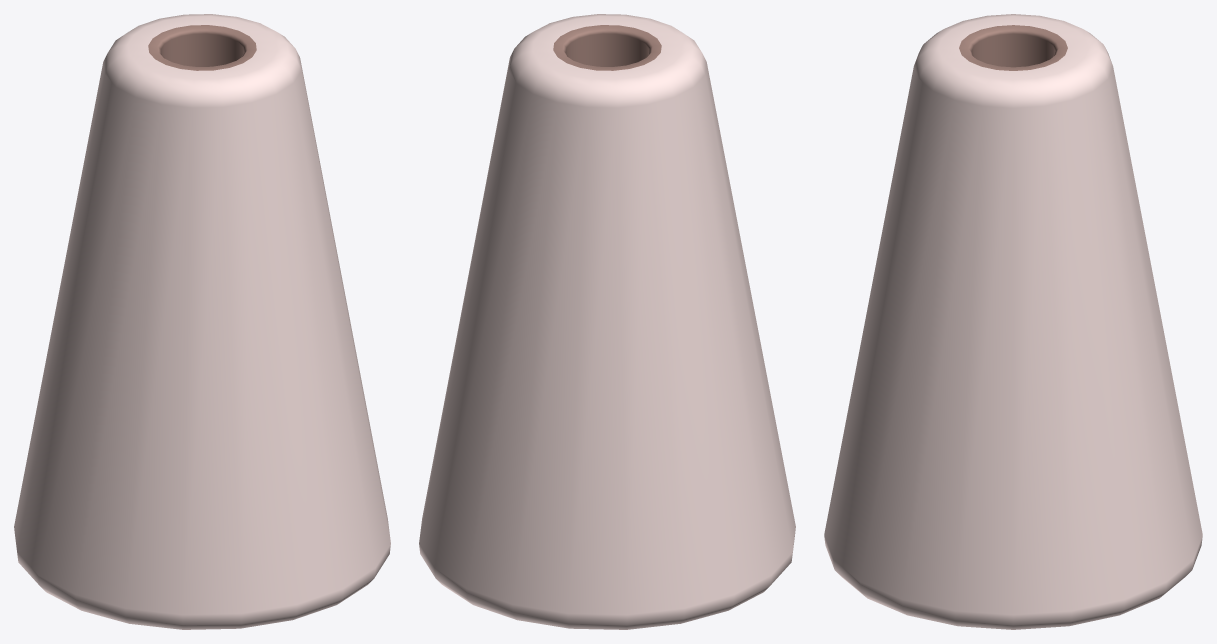
File: Public_19_Skein_of_thread_1.glb
The picture shows the model from 3 angles, left to right: view 1: azimuth 30°, elevation 25°; view 2: azimuth 150°, elevation 25°; view 3: azimuth 270°, elevation 25°; orthographic projection.
Visible parts, largest first — view 1: Public_19_Skein_of_thread_1; view 2: Public_19_Skein_of_thread_1; view 3: Public_19_Skein_of_thread_1.
Part boxes in pixels (x1=…): Public_19_Skein_of_thread_1: x1=14, y1=14, x2=390, y2=629; Public_19_Skein_of_thread_1: x1=419, y1=14, x2=795, y2=629; Public_19_Skein_of_thread_1: x1=824, y1=14, x2=1202, y2=629.
Size of the model in its own units: 0.3044 by 0.4513 by 0.3044.
1 material, 1 textured.
